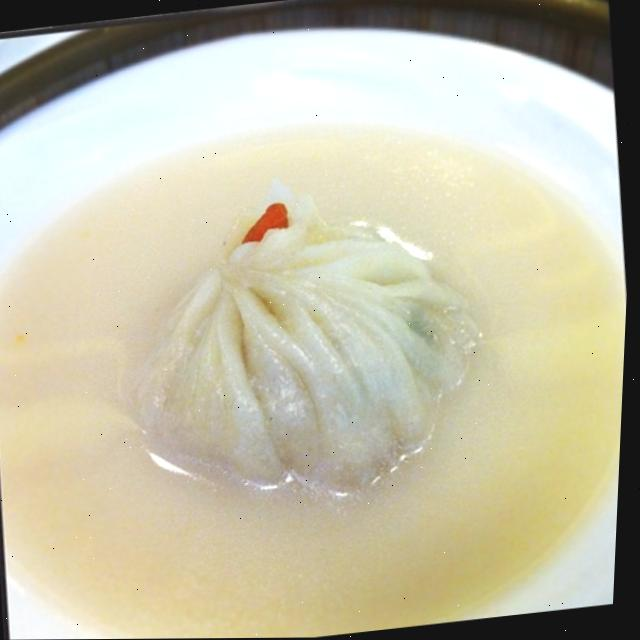带馅早点: (0, 66, 638, 640)
